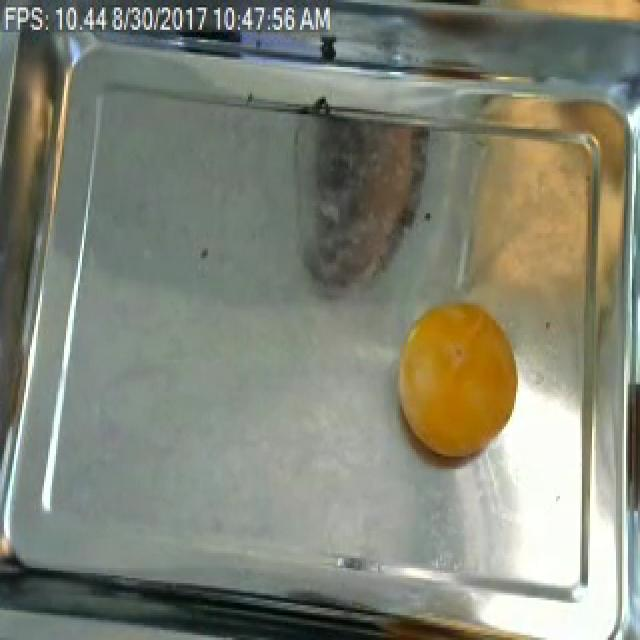Fruit: (454, 119, 608, 365), (388, 296, 524, 462), (454, 0, 640, 37)
